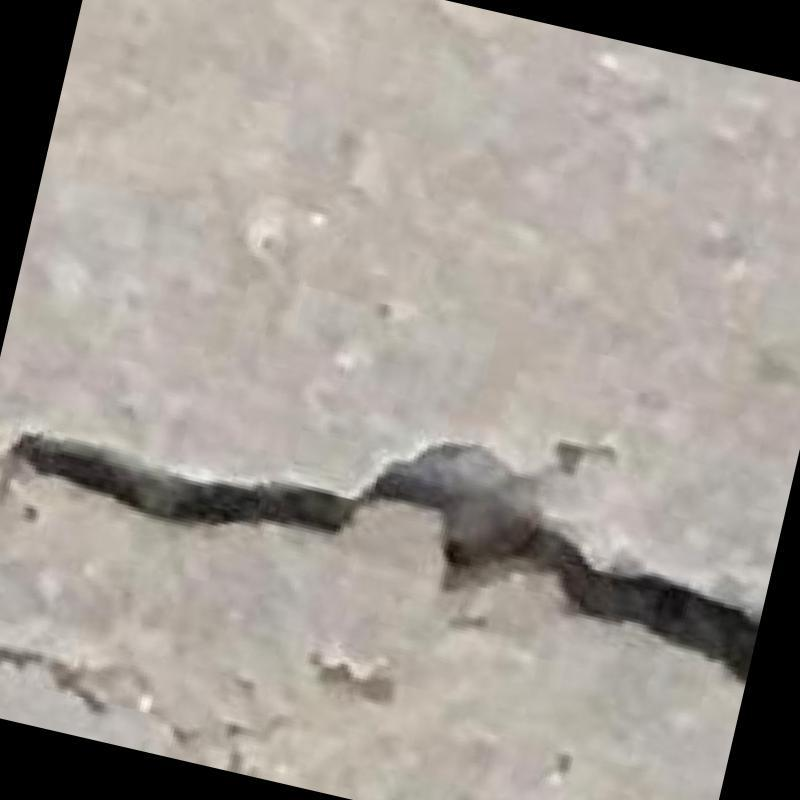pothole: (6, 432, 760, 681)
